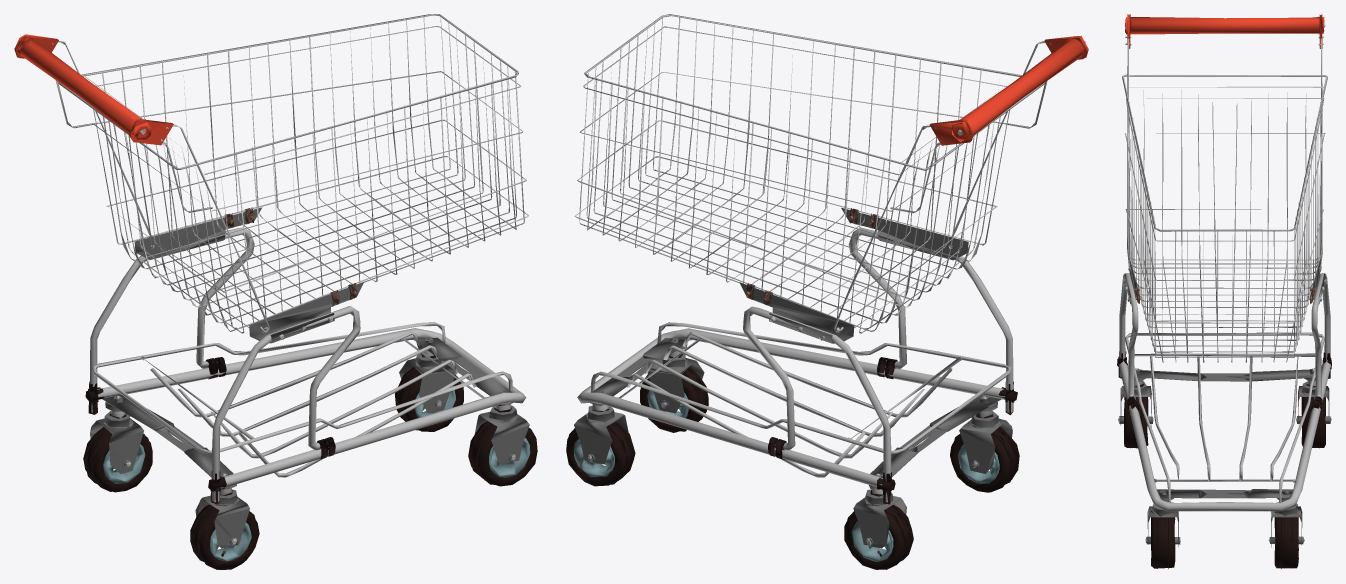
Rendered from SM_Trolley.glb.
The picture shows the model from 3 angles, left to right: view 1: azimuth 30°, elevation 25°; view 2: azimuth 150°, elevation 25°; view 3: azimuth 270°, elevation 25°; orthographic projection. The views are drawn at different scales.
Parts seen in each view (by area): view 1: SM_Trolley; view 2: SM_Trolley; view 3: SM_Trolley.
Boxes of the visible parts, bbox=[...] form: SM_Trolley: bbox=[14, 14, 537, 569]; SM_Trolley: bbox=[566, 14, 1088, 569]; SM_Trolley: bbox=[1117, 14, 1331, 568].
Size of the model in its own units: 0.9417 by 1 by 0.4934.
